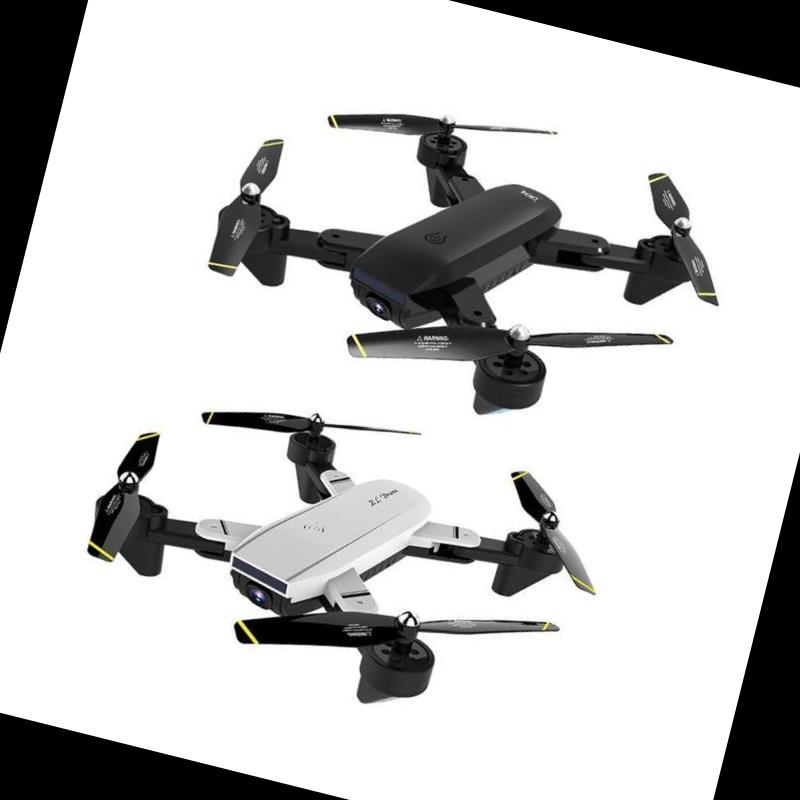drone: (147, 29, 761, 484), (42, 358, 626, 760)
